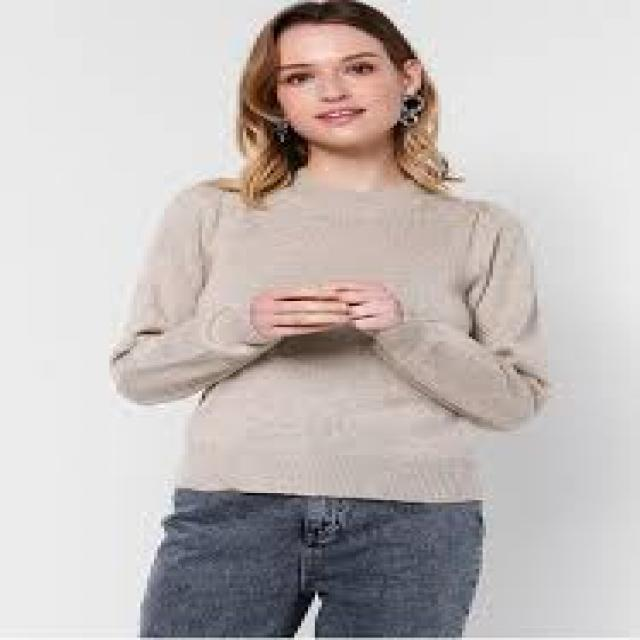plain: (103, 165, 561, 509)
